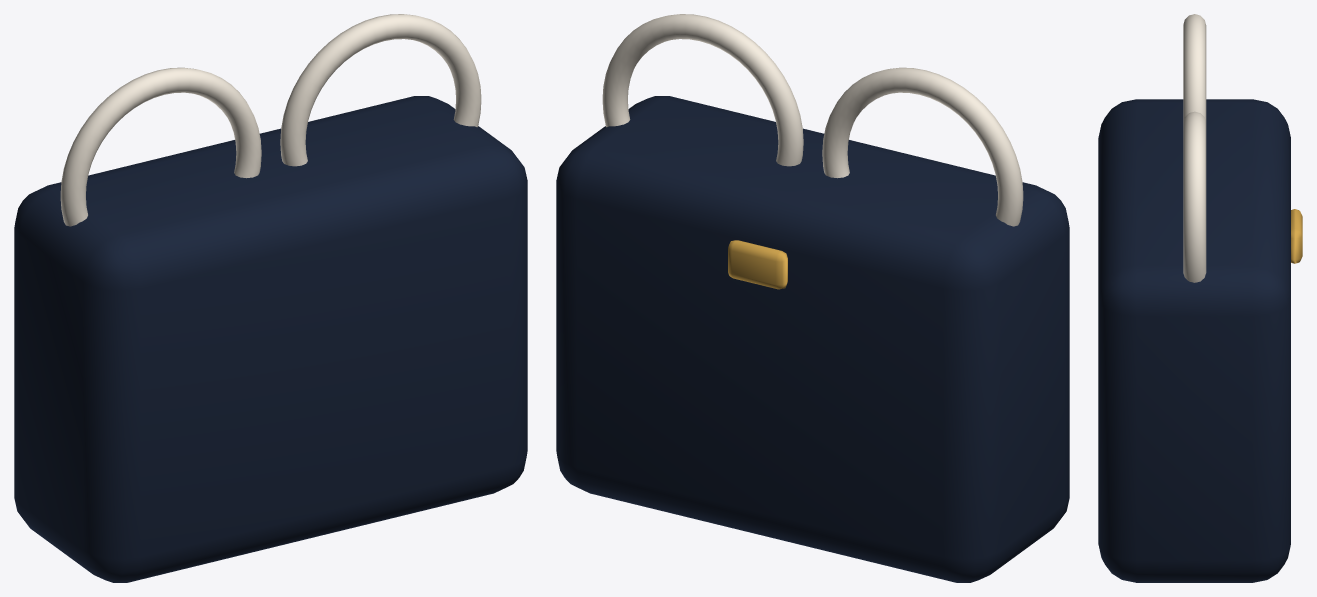
File: bag.glb
3 renders of one model, left to right at view 1: azimuth 30°, elevation 25°; view 2: azimuth 150°, elevation 25°; view 3: azimuth 270°, elevation 25°, orthographic. The views are drawn at different scales.
Parts seen in each view (by area): view 1: body, handle, handle.001; view 2: body, handle, handle.001, clasp; view 3: body, handle.001, handle, clasp.
Boxes of the visible parts, x1,y1,x2,y2 form: body: (14,96,527,582); handle: (60,67,261,226); handle.001: (280,14,481,166); body: (556,96,1069,582); handle: (822,67,1023,226); handle.001: (602,14,803,166); clasp: (728,240,787,289); body: (1098,99,1290,582); handle.001: (1183,111,1206,282); handle: (1183,14,1206,122); clasp: (1291,209,1302,263).
Size of the model in its own units: 0.6 by 0.61 by 0.265.
